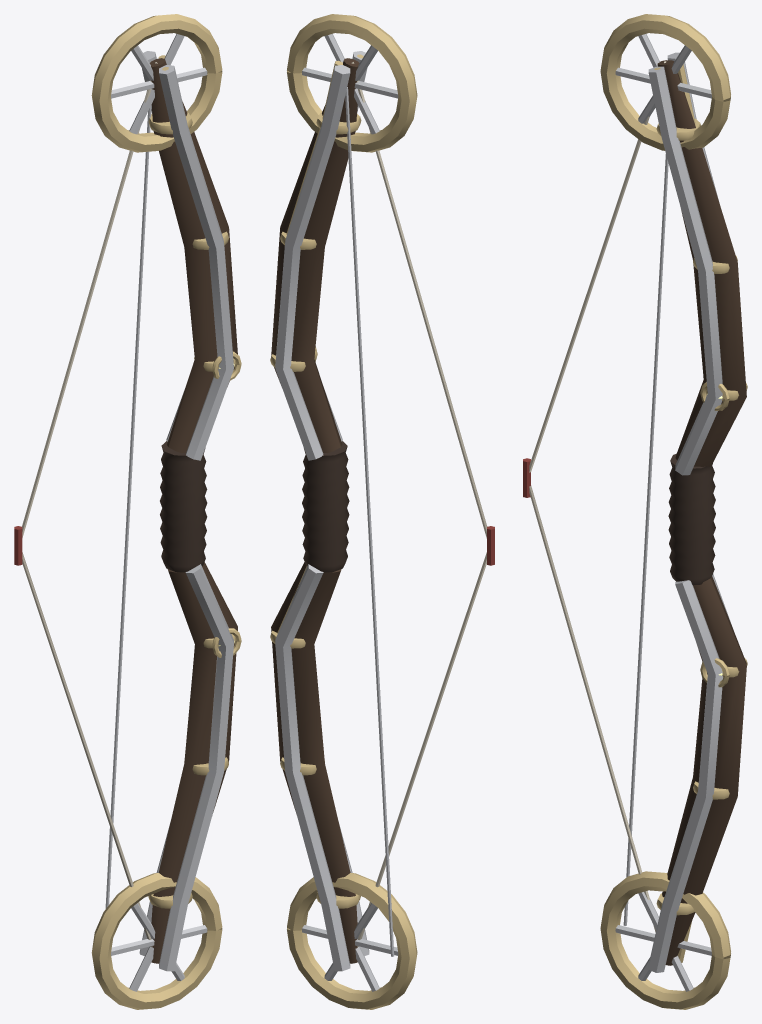
Rendered from yew_longbow.glb.
3 views of the same model, side by side, from view 1: azimuth 30°, elevation 25°; view 2: azimuth 150°, elevation 25°; view 3: azimuth 330°, elevation 25° (orthographic).
Parts seen in each view (by area): view 1: yew_longbow; view 2: yew_longbow; view 3: yew_longbow.
Boxes of the visible parts, x1,y1,x2,y2 form: yew_longbow: [14, 14, 241, 1009]; yew_longbow: [270, 14, 494, 1009]; yew_longbow: [523, 14, 747, 1009].
Bounding box in the file's own units: 0.3387 × 1.44 × 0.0708.
